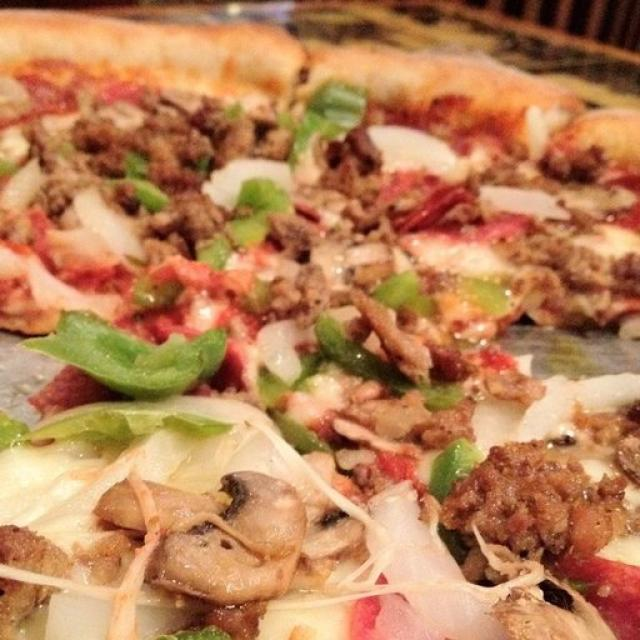Beef: (446, 451, 640, 567), (513, 225, 640, 321), (78, 111, 190, 180), (350, 294, 433, 381), (28, 118, 88, 200), (321, 154, 379, 230), (571, 410, 640, 460), (153, 190, 205, 248), (202, 116, 259, 166), (467, 139, 529, 181), (297, 178, 346, 229), (543, 140, 608, 178), (275, 267, 329, 310), (412, 406, 473, 441), (188, 184, 223, 230), (281, 201, 313, 251), (249, 126, 294, 161), (571, 180, 602, 212), (613, 441, 640, 476)
Green Pepper: (57, 314, 226, 394), (318, 318, 470, 406), (284, 79, 371, 150), (28, 414, 161, 444), (376, 268, 443, 320), (197, 217, 265, 260), (430, 443, 476, 486), (240, 182, 286, 219), (164, 408, 227, 434), (115, 138, 154, 176), (130, 269, 167, 307), (254, 281, 275, 317), (268, 106, 298, 129), (223, 98, 246, 117)
Mushrooms: (125, 474, 289, 588)
Onions: (364, 480, 496, 640), (96, 492, 164, 631), (271, 432, 376, 521), (520, 372, 640, 438), (399, 226, 511, 289), (0, 461, 91, 535), (198, 146, 290, 218), (0, 558, 118, 605), (69, 176, 137, 247), (365, 122, 455, 174), (152, 401, 279, 437), (25, 270, 120, 314), (478, 183, 573, 223), (166, 293, 251, 333), (258, 321, 296, 384), (309, 240, 353, 294), (573, 222, 640, 254), (5, 165, 39, 223), (0, 116, 27, 186), (342, 232, 388, 265)
Pizza: (0, 11, 640, 640)
